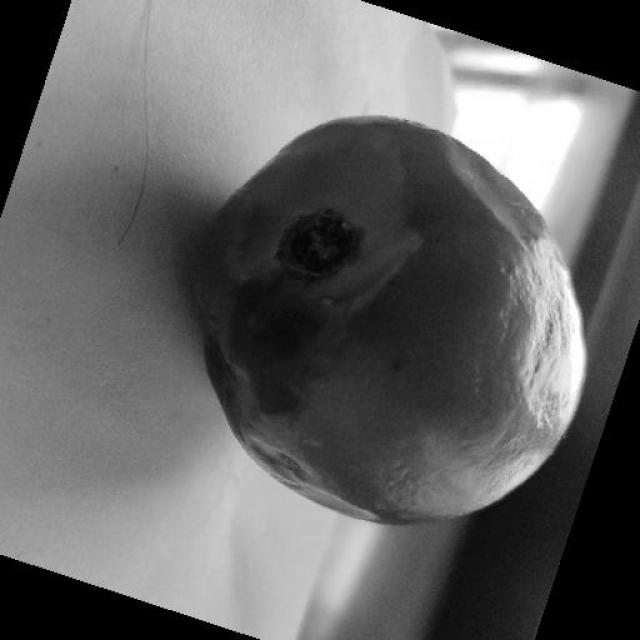Stale_tomato: (188, 160, 534, 504)
